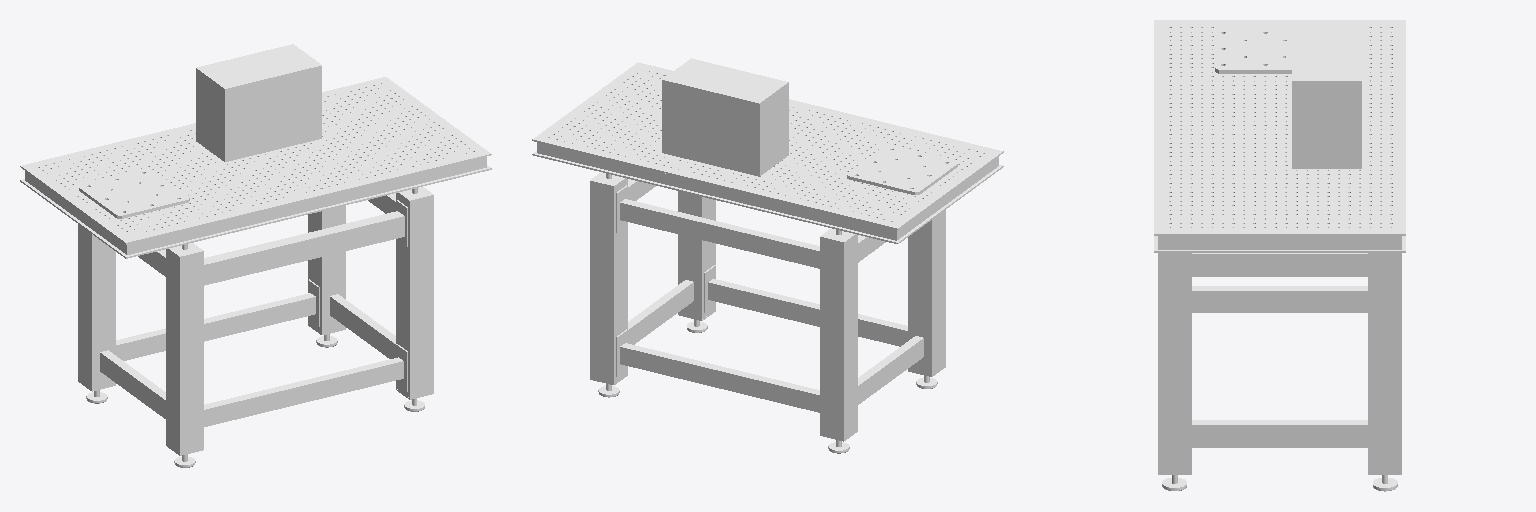
The robot description file, URDF, robot "foundation":
<?xml version="1.0" encoding="utf-8"?>
<!-- This URDF was automatically created by SolidWorks to URDF Exporter! Originally created by [author] ([email redacted]) 
     Commit Version: 1.5.1-0-g916b5db  Build Version: 1.5.7152.31018
     For more information, please see http://wiki.ros.org/sw_urdf_exporter -->
<robot
  name="foundation">
  <link
    name="table_link">
    <inertial>
      <origin
        xyz="0.017137 0.025038 0.71647"
        rpy="0 0 0" />
      <mass
        value="53.254" />
      <inertia
        ixx="2.0763"
        ixy="-0.072445"
        ixz="-0.09758"
        iyy="5.469"
        iyz="-0.13074"
        izz="6.4085" />
    </inertial>
    <visual>
      <origin
        xyz="0 0 0"
        rpy="0 0 0" />
      <geometry>
        <mesh
          filename="package://foundation/meshes/table_link.STL" />
      </geometry>
      <material
        name="">
        <color
          rgba="1 1 1 1" />
      </material>
    </visual>
    <collision>
      <origin
        xyz="0 0 0"
        rpy="0 0 0" />
      <geometry>
        <mesh
          filename="package://foundation/meshes/table_link.STL" />
      </geometry>
    </collision>
  </link>
  <link
    name="foundation_Link">
    <inertial>
      <origin
        xyz="-5.5511E-17 -8.1481E-06 -0.005"
        rpy="0 0 0" />
      <mass
        value="0.55521" />
      <inertia
        ixx="0.002567"
        ixy="-1.0842E-18"
        ixz="3.2526E-19"
        iyy="0.002647"
        iyz="2.7105E-19"
        izz="0.0052048" />
    </inertial>
    <visual>
      <origin
        xyz="0 0 0"
        rpy="0 0 0" />
      <geometry>
        <mesh
          filename="package://foundation/meshes/foundation_Link.STL" />
      </geometry>
      <material
        name="">
        <color
          rgba="1 1 1 1" />
      </material>
    </visual>
    <collision>
      <origin
        xyz="0 0 0"
        rpy="0 0 0" />
      <geometry>
        <mesh
          filename="package://foundation/meshes/foundation_Link.STL" />
      </geometry>
    </collision>
  </link>
  <joint
    name="foundation_joint"
    type="fixed">
    <origin
      xyz="-0.42 -0.0355 0.775"
      rpy="0 0 0" />
    <parent
      link="table_link" />
    <child
      link="foundation_Link" />
    <axis
      xyz="0 0 0" />
  </joint>
</robot>

--- Render facts (derived) ---
3 views of the same robot in one strip: view 1: azimuth 30°, elevation 25°; view 2: azimuth 150°, elevation 25°; view 3: azimuth 270°, elevation 25° (orthographic).
Model foundation with 2 links and 1 joints (1 fixed), rooted at table_link, posed every joint at zero.
Links seen in each view (by area): view 1: table_link, foundation_Link; view 2: table_link, foundation_Link; view 3: table_link, foundation_Link.
Link boxes in pixels (<box>): table_link: <box>20,44,491,467</box>; foundation_Link: <box>79,169,189,218</box>; table_link: <box>532,58,1003,453</box>; foundation_Link: <box>847,145,957,194</box>; table_link: <box>1154,20,1405,491</box>; foundation_Link: <box>1215,27,1291,73</box>.
Bounding box of the posed robot: 1.2 × 0.6 × 0.995 m (x, y, z).
2 mesh visuals loaded from 2 distinct referenced files (2 binary STL).